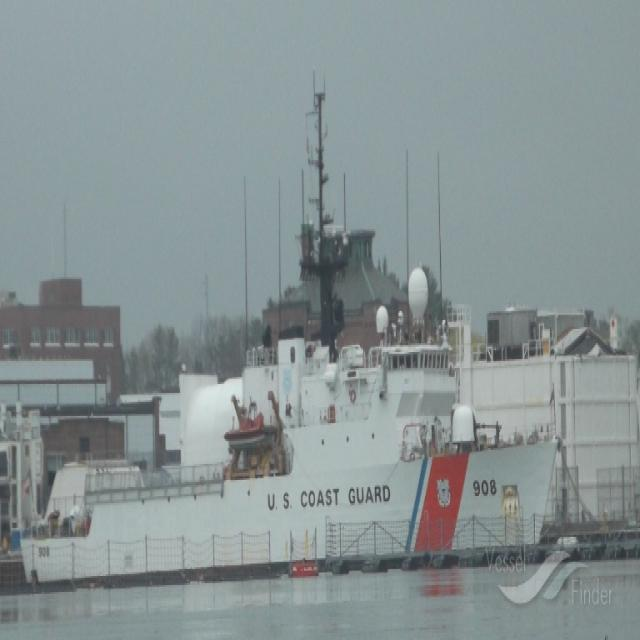OCR: (263, 474, 401, 522), (467, 468, 501, 504)
